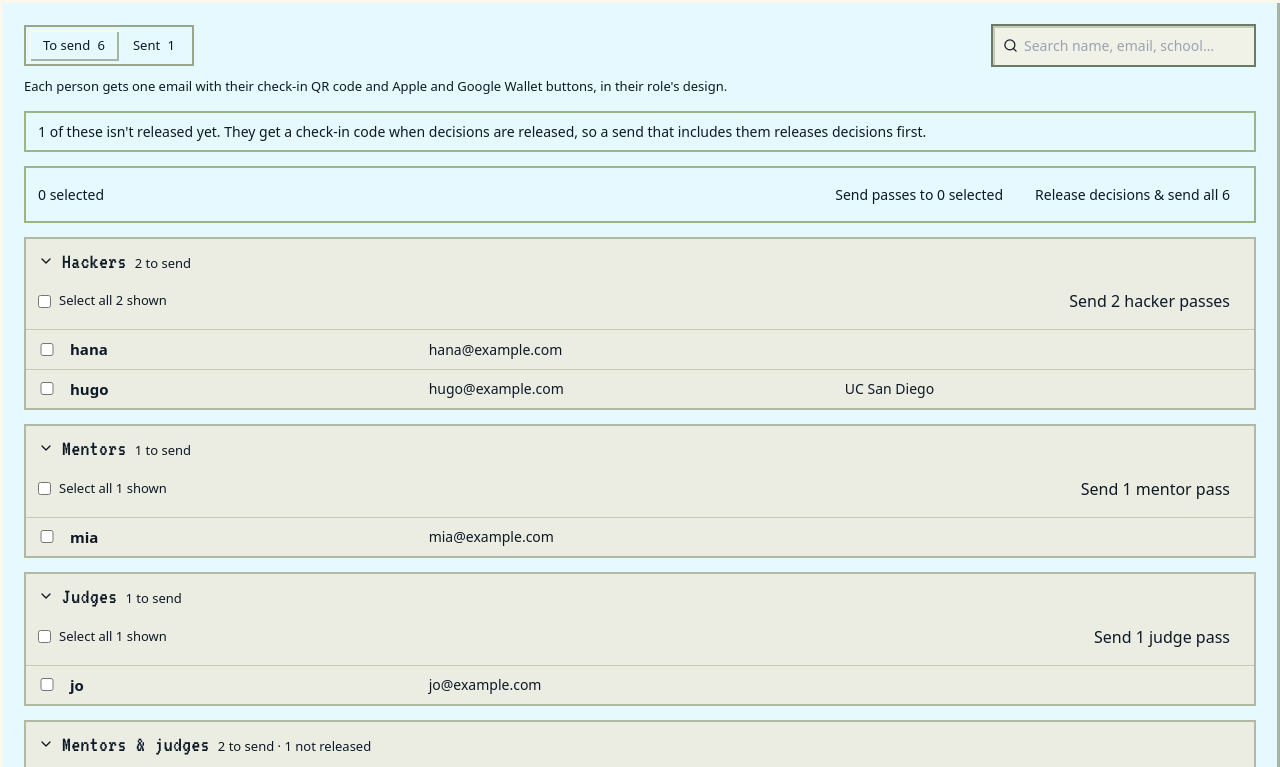
Test: PassesPage › selects a whole role, keeping selections hidden by search
This screenshot has width=1280, height=767.
Click the checkbox labelled "Select all 2 shown" below "Hackers" at (44, 301), box [38,294,51,308]
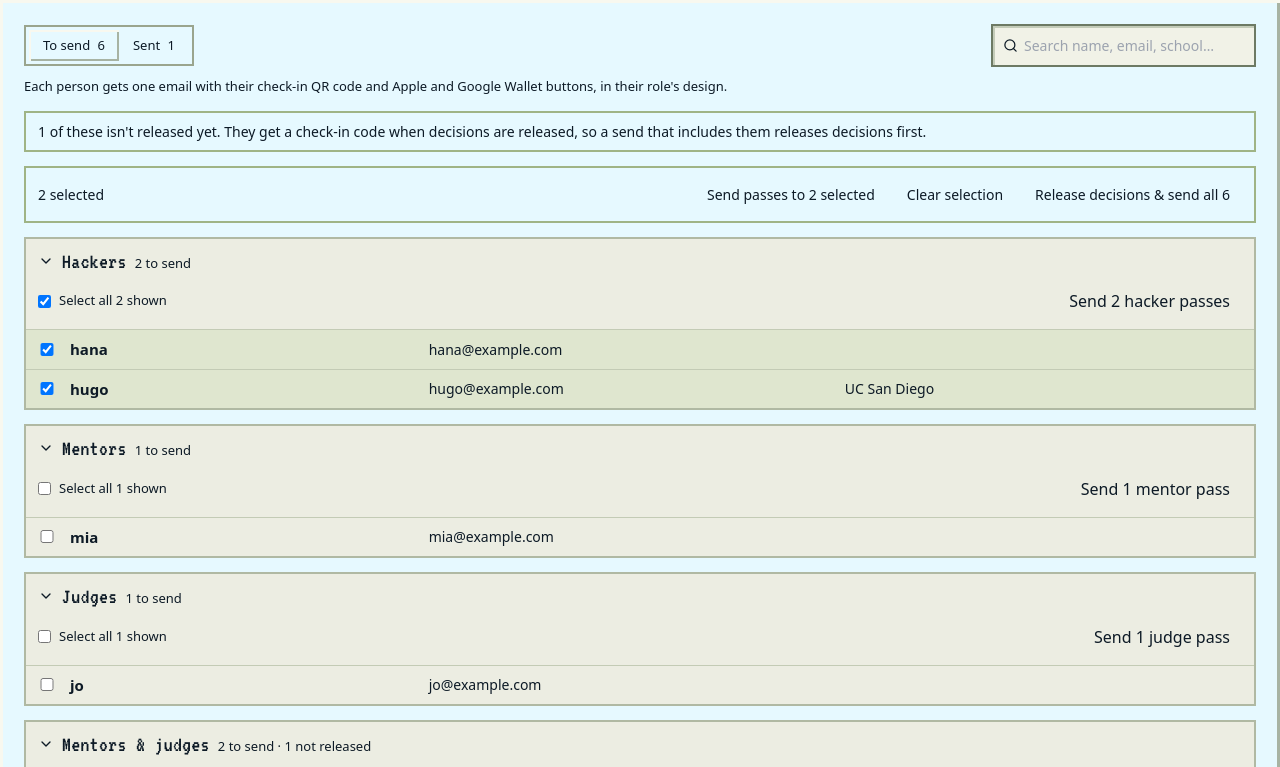
Type "mia" into the search field at (1134, 46), box [1024,26,1244,65]
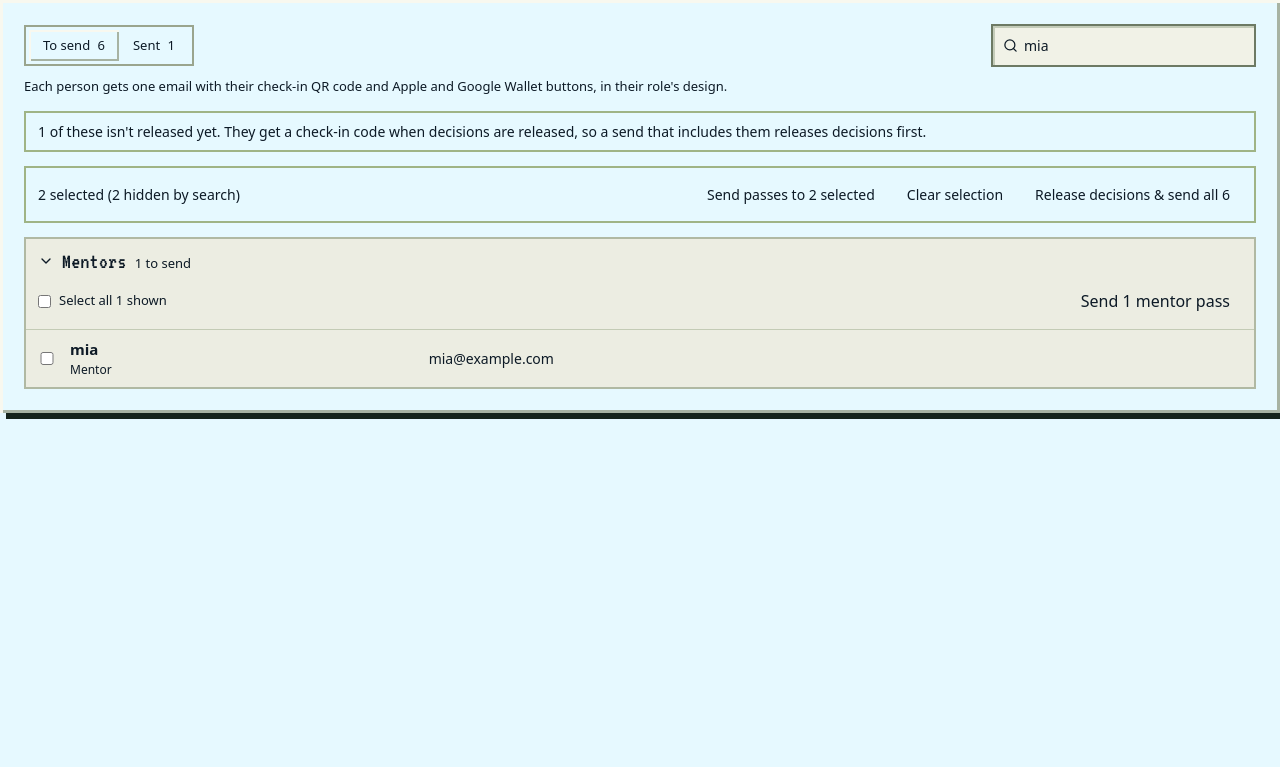
Expected: the text with class "og-pass-selected" reads "2 selected (2 hidden by search)", [38,184,240,204]
